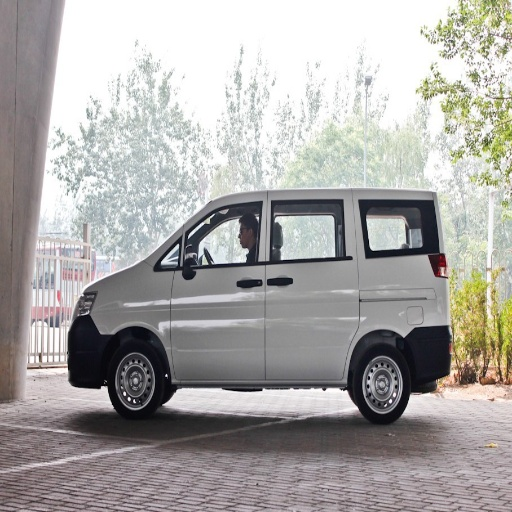back_left_door: (267, 198, 358, 375)
trunk: (342, 285, 436, 374)
